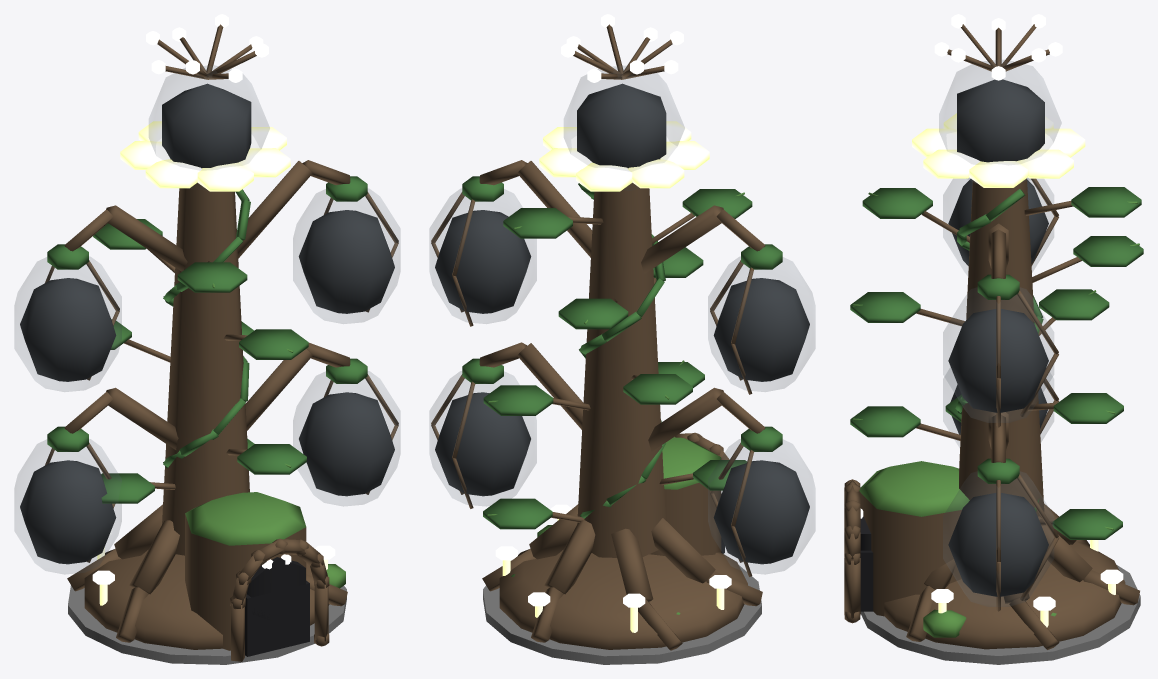
The model's file is BLOOM_Vat_T3.glb.
The picture shows the model from 3 angles, left to right: view 1: azimuth 30°, elevation 25°; view 2: azimuth 150°, elevation 25°; view 3: azimuth 270°, elevation 25°; orthographic projection.
Parts seen in each view (by area): view 1: BLOOM_Vat_T3; view 2: BLOOM_Vat_T3; view 3: BLOOM_Vat_T3.
Boxes of the visible parts, x1,y1,x2,y2 form: BLOOM_Vat_T3: (14, 14, 400, 664); BLOOM_Vat_T3: (429, 14, 815, 664); BLOOM_Vat_T3: (844, 14, 1143, 664).
Size of the model in its own units: 5.4 by 8.08 by 3.68.
